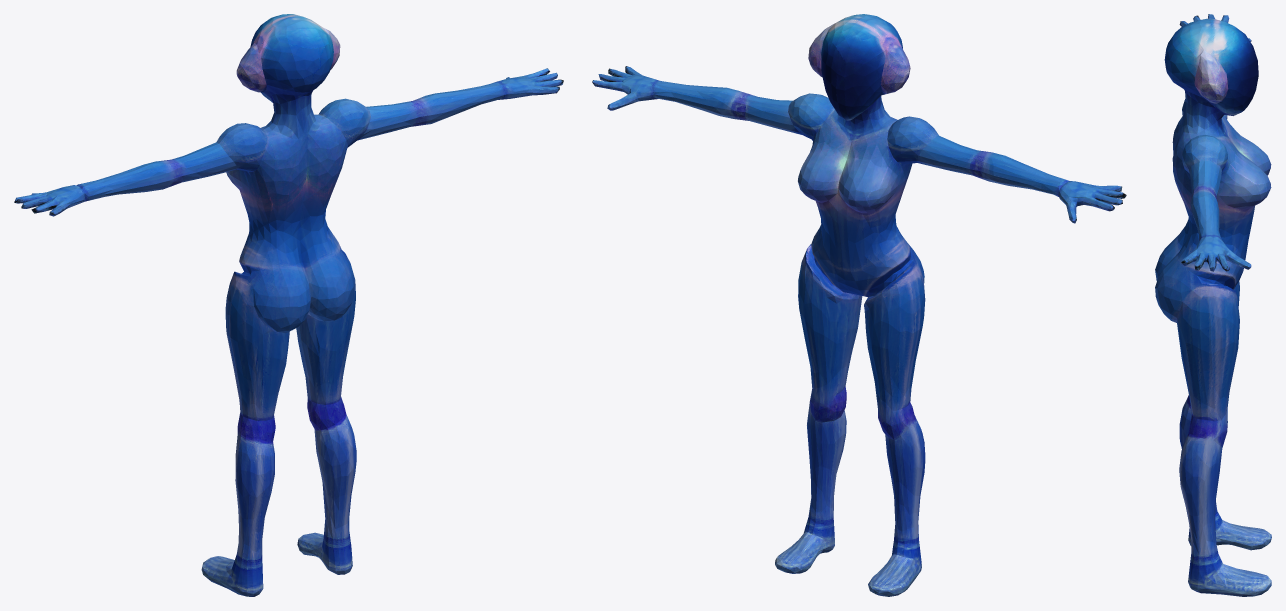
The model's file is robo-iris.glb.
The picture shows the model from 3 angles, left to right: view 1: azimuth 30°, elevation 25°; view 2: azimuth 150°, elevation 25°; view 3: azimuth 270°, elevation 25°; orthographic projection. The views are drawn at different scales.
Visible parts, largest first — view 1: world; view 2: world; view 3: world.
Part boxes in pixels (bbox=[...]): world: bbox=[14, 14, 563, 596]; world: bbox=[592, 14, 1126, 596]; world: bbox=[1155, 14, 1271, 596].
Bounding box in the file's own units: 0.7001 × 0.7004 × 0.1359.
Materials: 1 (1 with a texture image).
